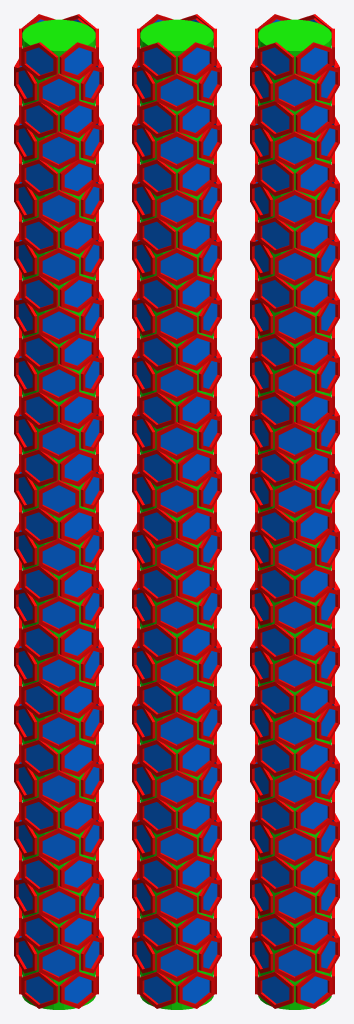
Rendered from P_Tower_Dungeon.FBX.
The picture shows the model from 3 angles, left to right: view 1: azimuth 90°, elevation 25°; view 2: azimuth 210°, elevation 25°; view 3: azimuth 270°, elevation 25°; orthographic projection.
Visible parts, largest first — view 1: LD; view 2: LD; view 3: LD.
Part boxes in pixels (x1,y1,x2,y2): LD: (14,14,103,1009); LD: (132,14,221,1009); LD: (250,14,339,1009).
Bounding box in the file's own units: 16.96 × 201 × 16.96.
